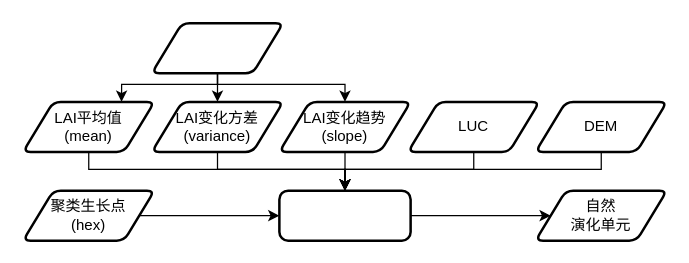
This 689x263 diagram has some shape labels left out. The shapes that lost their labels are listed below. From the top down, each one's centre as x and y in pixels, then its label:
point (217, 47): 多年LAI数据
point (344, 215): SNIC分割算法
